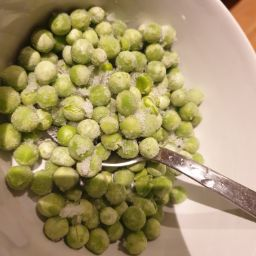Peas: (4, 6, 212, 248), (107, 22, 174, 91), (7, 122, 65, 193), (94, 109, 161, 163), (105, 188, 158, 256), (40, 11, 92, 70), (37, 189, 100, 235), (9, 57, 60, 113)
